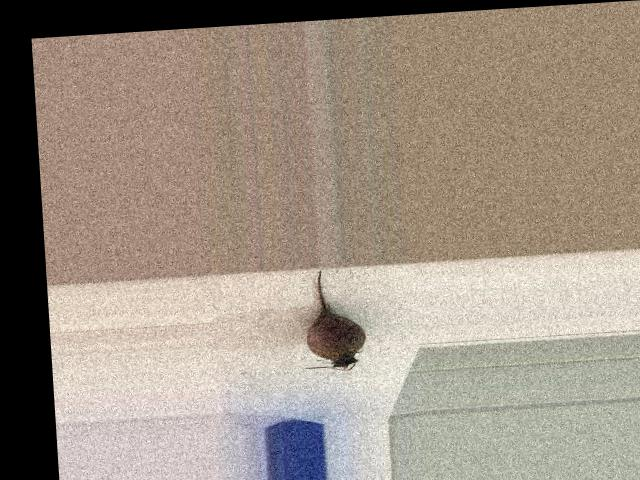beet: (297, 267, 366, 373)
